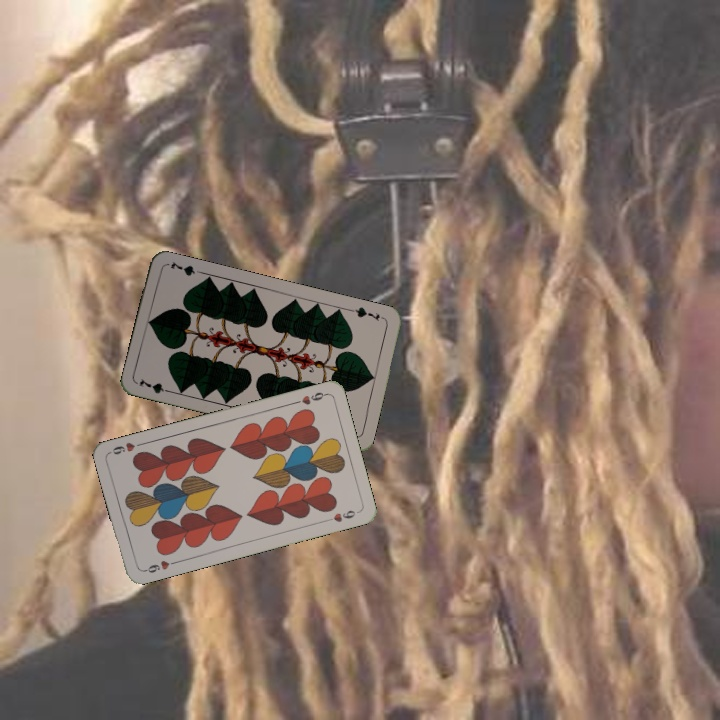G7: (135, 375, 175, 396), (347, 303, 382, 323)
H9: (139, 556, 179, 576), (289, 388, 329, 407)
